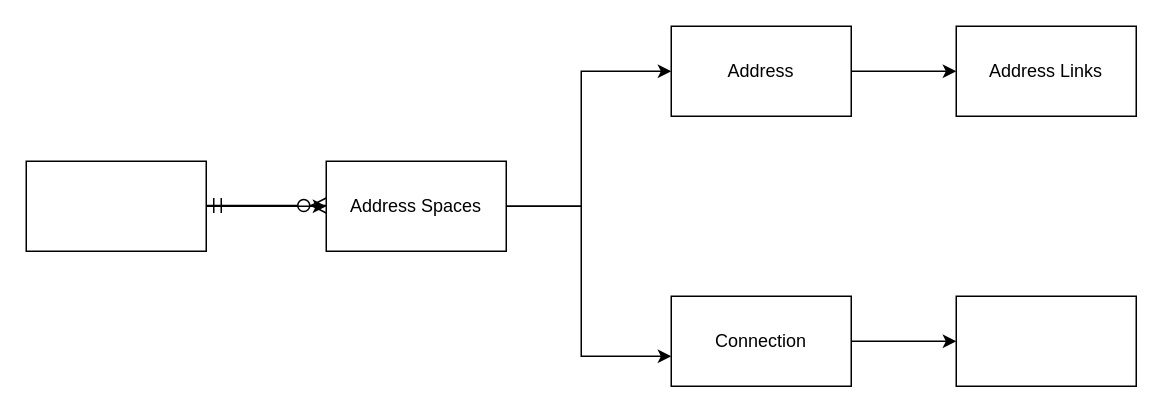
The diagram is 1163 pixels wide and 413 high, and some of its shapes have lost their labels. The shapes that lost their labels are listed below. From the top down, each one's centre as x and y in pixels, then its label:
the point at 115,205: Namespaces
the point at 1045,340: Connection Links
